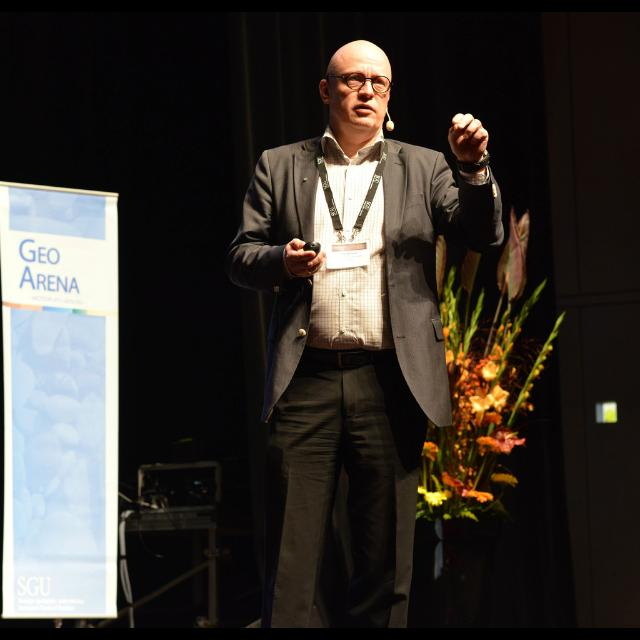Flower: (416, 444, 444, 466), (436, 477, 462, 498), (472, 433, 498, 453), (426, 492, 444, 508), (498, 438, 514, 456), (476, 362, 492, 376)
